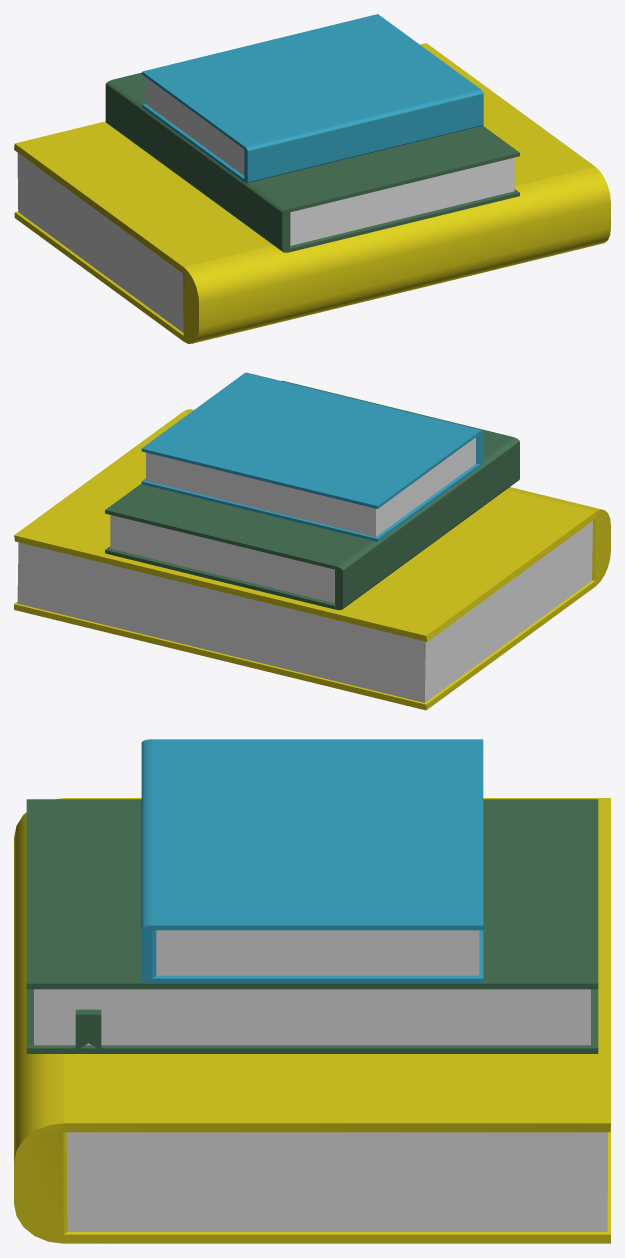
File: livres.gltf
The picture shows the model from 3 angles, top to bottom: view 1: azimuth 30°, elevation 25°; view 2: azimuth 150°, elevation 25°; view 3: azimuth 270°, elevation 25°; orthographic projection. The views are drawn at different scales.
Parts seen in each view (by area): view 1: Cube.053; view 2: Cube.053; view 3: Cube.053.
Part boxes in pixels (box(x1,y1,x2,y2)): Cube.053: box(14, 14, 610, 343); Cube.053: box(14, 372, 610, 710); Cube.053: box(14, 739, 610, 1243).
Bounding box in the file's own units: 0.1012 × 0.036 × 0.0784.
